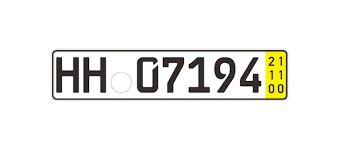0: (135, 55, 160, 94)
1: (185, 56, 211, 94)
4: (238, 55, 263, 94)
7: (160, 57, 185, 93)
9: (211, 57, 239, 94)
H: (79, 56, 111, 95), (53, 55, 82, 95)
